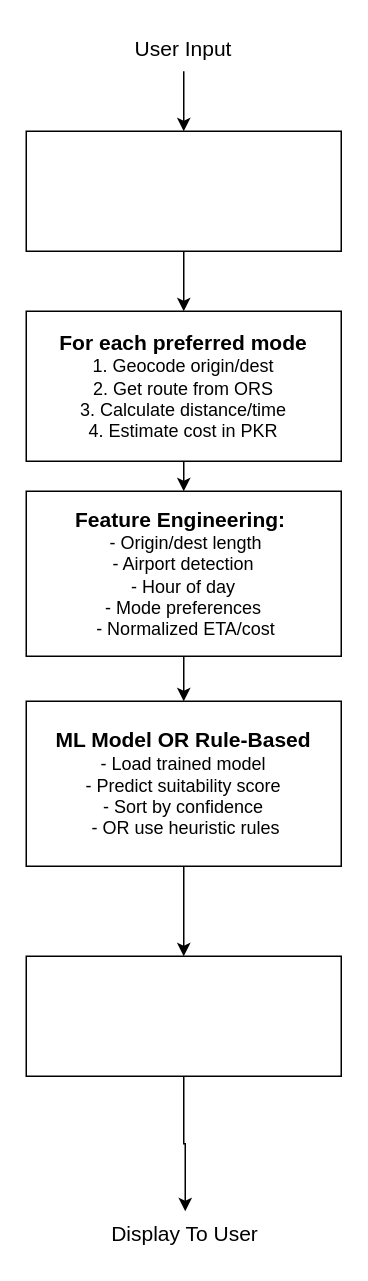
This 368x1281 diagram has some shape labels left out. Here are the shapes that lost their labels. From the top down, the box of each, then its label:
(25, 130, 341, 251): Create TripRequest POST /api/tri_requests/
(25, 955, 341, 1076): Return Ranked Recommendations GET /api/recommendations/
